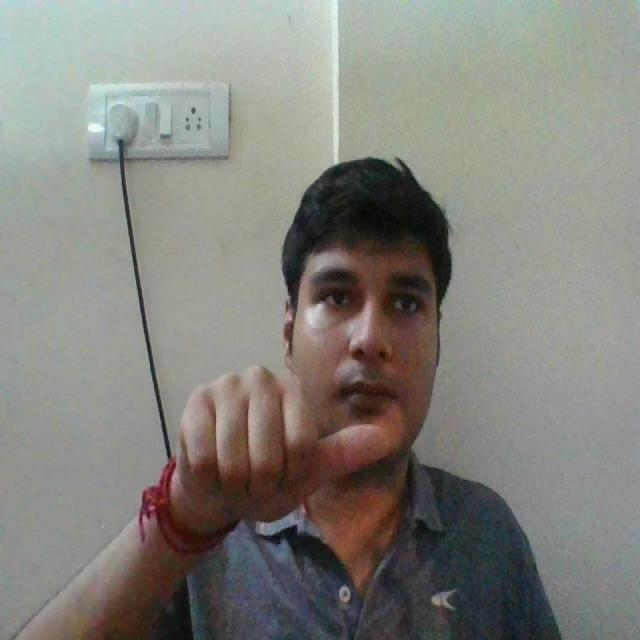Yes: (130, 334, 411, 576)
